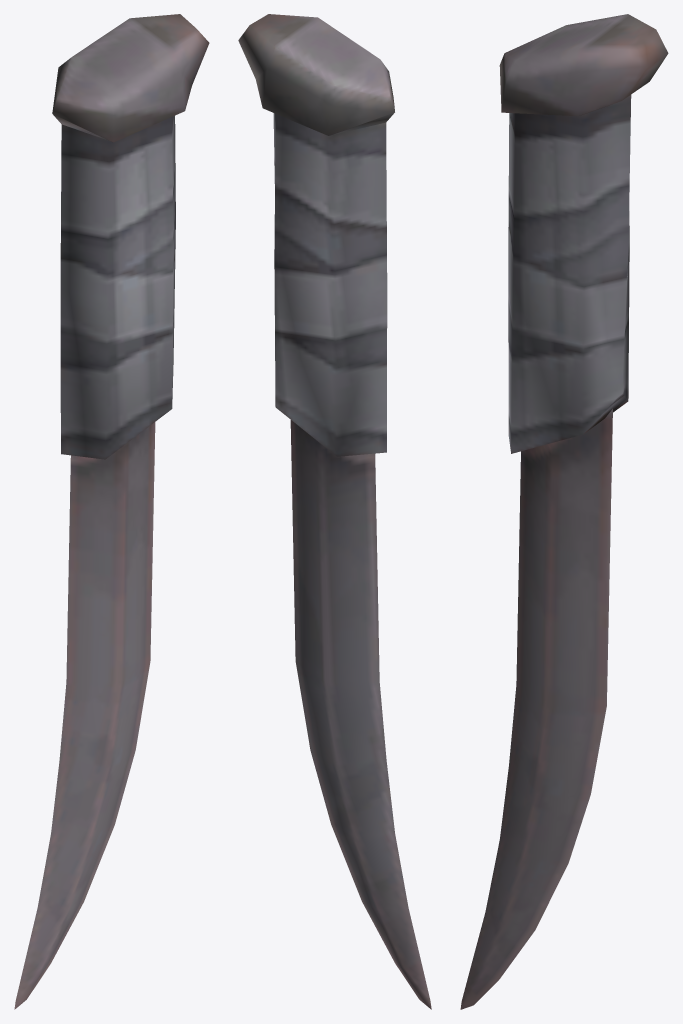
The model's file is DoubleKnife_TRUE_FBX.fbx.
The picture shows the model from 3 angles, left to right: view 1: azimuth 30°, elevation 25°; view 2: azimuth 150°, elevation 25°; view 3: azimuth 330°, elevation 25°; orthographic projection. The views are drawn at different scales.
Visible parts, largest first — view 1: DoubleKnife; view 2: DoubleKnife; view 3: DoubleKnife.
Part boxes in pixels (x1=…): DoubleKnife: x1=14, y1=14, x2=209, y2=1009; DoubleKnife: x1=238, y1=14, x2=431, y2=1009; DoubleKnife: x1=460, y1=14, x2=668, y2=1009.
Size of the model in its own units: 0.1752 by 0.0976 by 0.8531.
